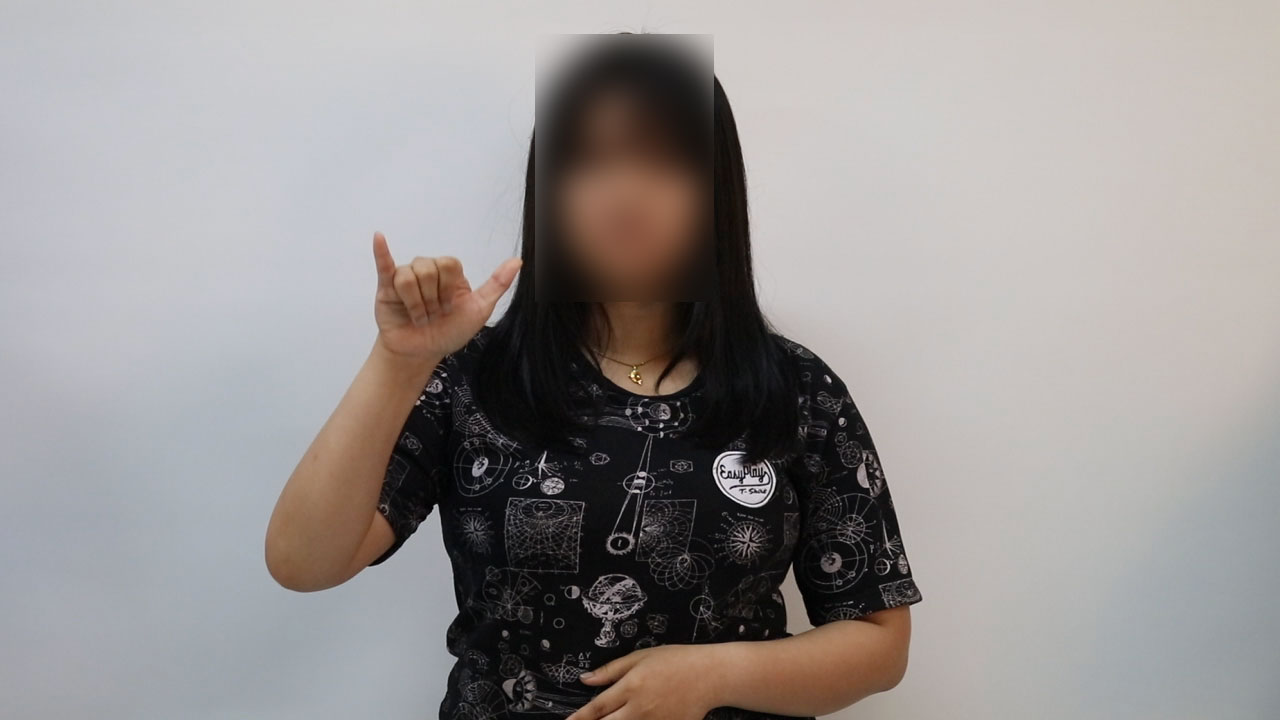yor: (360, 224, 530, 369)
